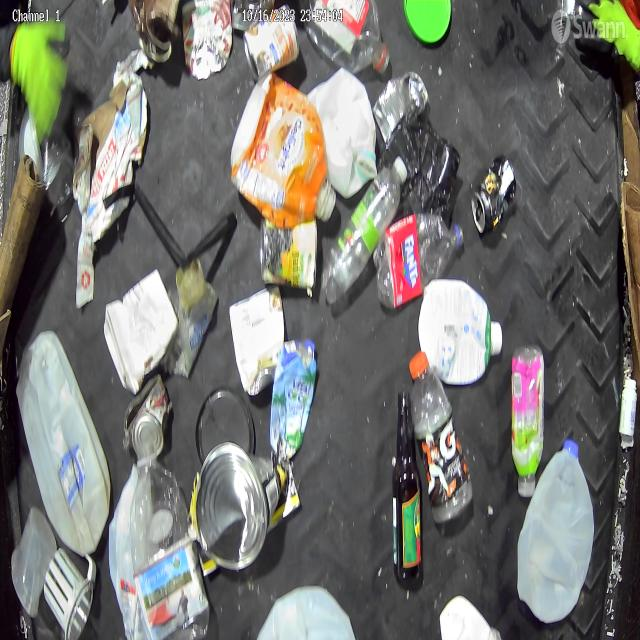can: (195, 440, 288, 570), (230, 286, 285, 395), (371, 71, 428, 150), (244, 3, 300, 80), (260, 218, 318, 290), (181, 0, 233, 80), (124, 373, 172, 459), (473, 157, 519, 233), (133, 0, 180, 66)
milk_jug: (20, 332, 112, 555), (516, 440, 594, 623), (307, 69, 378, 199), (249, 585, 359, 640), (108, 459, 138, 640)
non_white_jug: (233, 72, 332, 224), (419, 277, 504, 384), (270, 339, 317, 459)
plastic_bottle: (130, 445, 210, 640), (323, 160, 411, 300), (409, 352, 474, 522), (373, 212, 466, 306)
